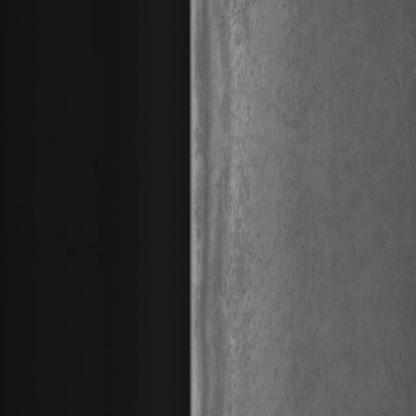silk_spot: (210, 15, 261, 411)
